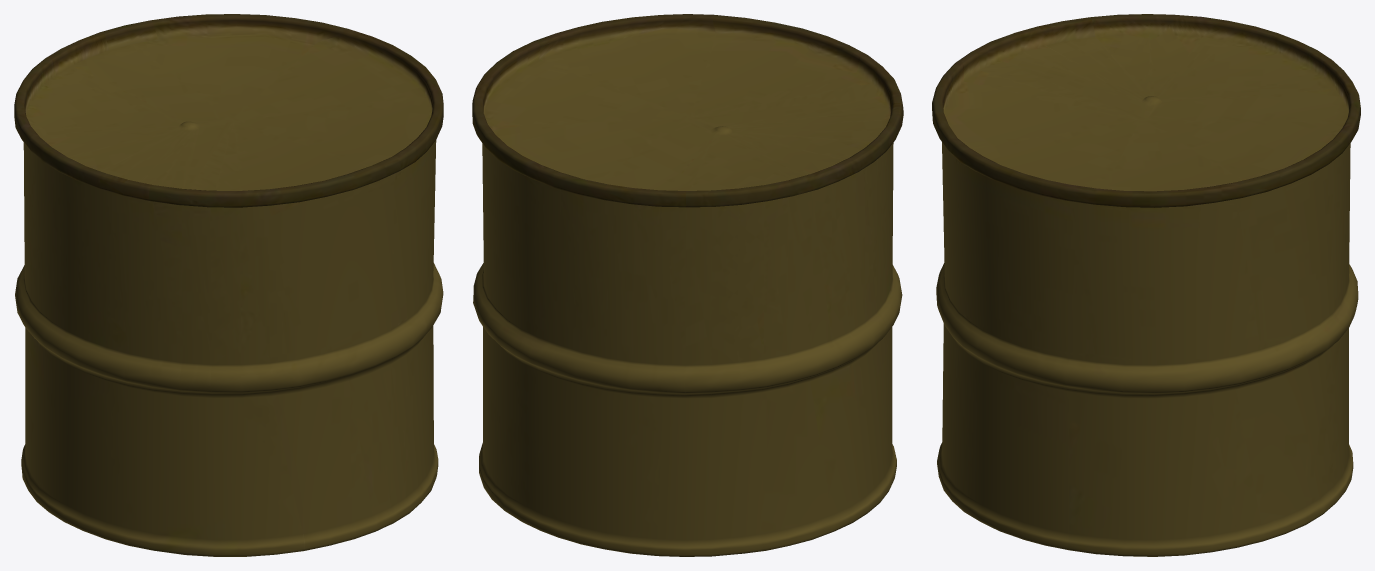
File: b3-drum.glb
The picture shows the model from 3 angles, left to right: view 1: azimuth 30°, elevation 25°; view 2: azimuth 150°, elevation 25°; view 3: azimuth 270°, elevation 25°; orthographic projection.
Visible parts, largest first — view 1: tripo_node_fbaef2f1-58e7-4939-9202-8d6efb0b2210; view 2: tripo_node_fbaef2f1-58e7-4939-9202-8d6efb0b2210; view 3: tripo_node_fbaef2f1-58e7-4939-9202-8d6efb0b2210.
Part boxes in pixels (left/top/right/bottom): tripo_node_fbaef2f1-58e7-4939-9202-8d6efb0b2210: left=14, top=14, right=443, bottom=556; tripo_node_fbaef2f1-58e7-4939-9202-8d6efb0b2210: left=472, top=14, right=903, bottom=556; tripo_node_fbaef2f1-58e7-4939-9202-8d6efb0b2210: left=932, top=14, right=1360, bottom=556.
Size of the model in its own units: 0.9388 by 0.88 by 0.9351.
Materials: 1 (1 with a texture image).
